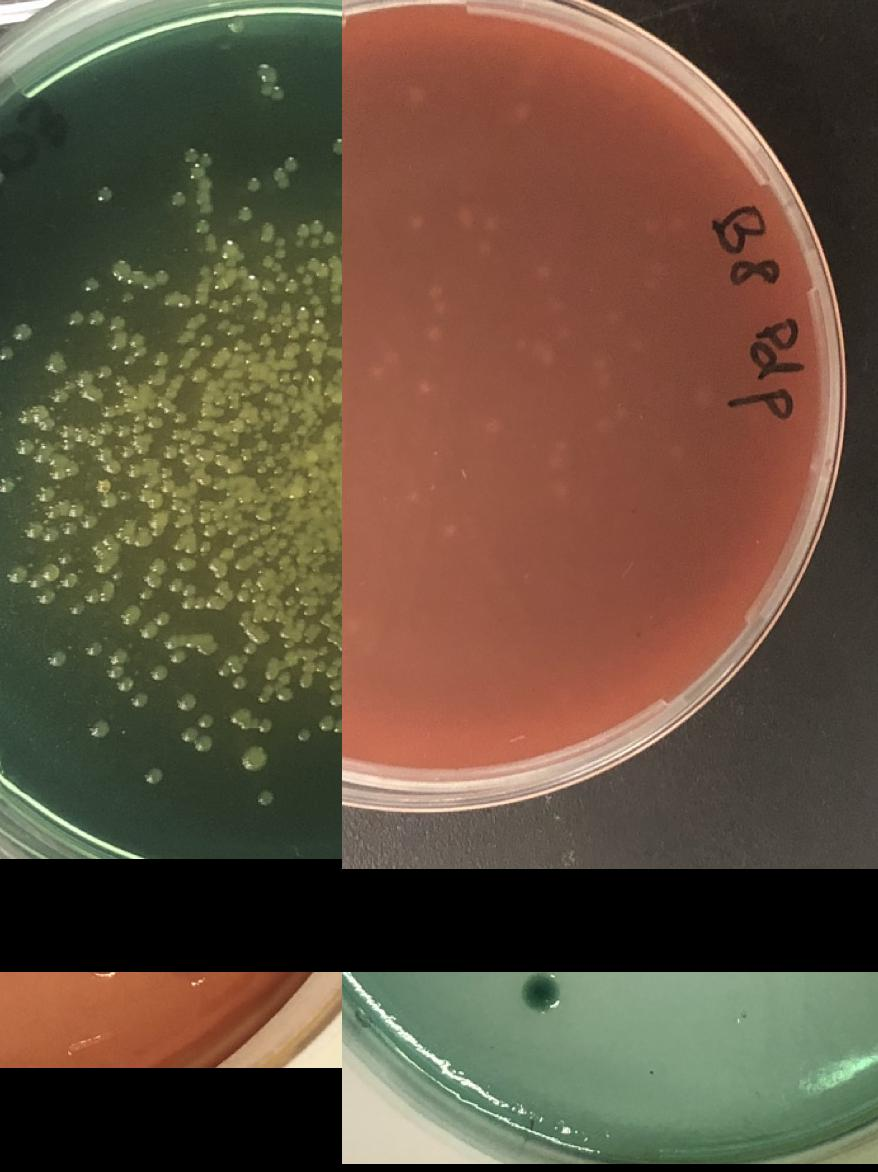pddamselae: (524, 974, 560, 1010)
pdpiscicida: (530, 338, 556, 372), (544, 437, 570, 471), (426, 282, 447, 318), (592, 356, 612, 387), (456, 210, 476, 228), (552, 324, 572, 342), (471, 238, 490, 256), (484, 418, 503, 436), (552, 483, 571, 501), (666, 442, 685, 460), (666, 216, 685, 234), (356, 638, 374, 656), (366, 363, 384, 381), (381, 349, 399, 367), (402, 488, 420, 506), (406, 85, 424, 103), (423, 325, 441, 343), (438, 518, 456, 536), (509, 336, 527, 354), (515, 102, 533, 120), (544, 295, 562, 313), (592, 417, 610, 435), (606, 308, 624, 326), (624, 332, 642, 350), (642, 214, 660, 232), (646, 254, 664, 272), (693, 388, 711, 406), (342, 614, 359, 632), (416, 379, 434, 396), (610, 404, 628, 421), (480, 214, 499, 230), (404, 214, 422, 230), (534, 262, 552, 278), (342, 438, 346, 456)
tmaritimum: (168, 972, 208, 983)
vangil: (118, 604, 168, 642), (18, 519, 78, 547), (135, 556, 166, 604), (294, 219, 335, 252), (182, 145, 214, 182), (270, 154, 301, 182), (178, 728, 210, 755), (260, 236, 288, 265), (96, 447, 120, 477), (96, 478, 115, 510), (8, 321, 32, 344), (10, 434, 34, 457), (36, 562, 60, 584), (79, 638, 103, 660), (86, 718, 110, 740), (125, 690, 149, 712), (139, 767, 163, 789), (147, 662, 171, 684), (252, 787, 276, 809), (4, 564, 27, 586), (45, 647, 68, 669), (291, 263, 313, 285), (0, 475, 16, 497), (0, 343, 16, 364), (67, 602, 85, 620), (86, 309, 104, 327), (108, 649, 126, 667), (118, 351, 136, 369), (168, 648, 186, 666), (176, 555, 194, 573), (195, 713, 213, 731), (230, 674, 248, 692), (95, 364, 112, 382), (95, 184, 112, 202), (127, 332, 144, 350), (168, 189, 185, 207), (192, 217, 209, 235), (234, 206, 251, 224), (68, 308, 84, 326), (80, 514, 98, 530), (108, 313, 124, 331), (118, 288, 134, 306), (244, 176, 262, 192), (81, 276, 96, 294), (153, 350, 168, 368), (153, 268, 168, 286), (296, 726, 310, 744), (192, 367, 206, 384), (329, 138, 342, 156), (329, 294, 342, 309), (196, 512, 209, 526), (337, 224, 342, 259), (306, 294, 320, 306)
